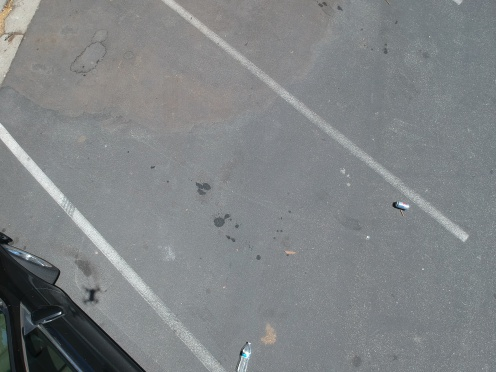bottle: (232, 336, 255, 372)
can: (388, 196, 414, 215)
